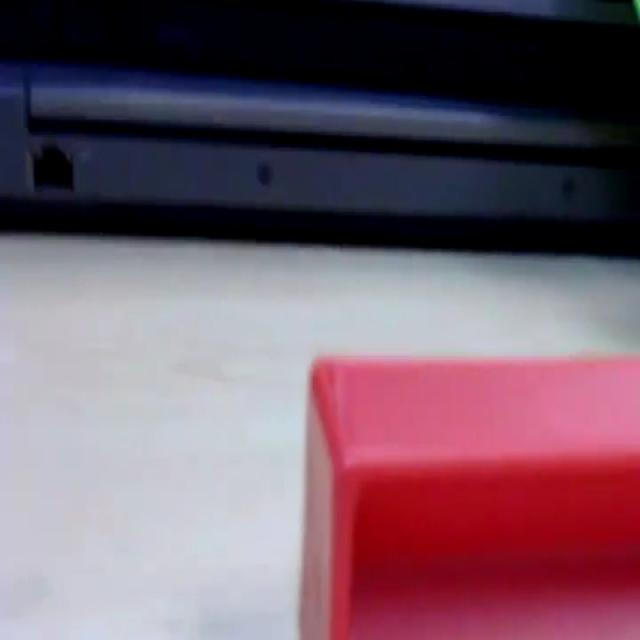red_block: (300, 351, 638, 637)
